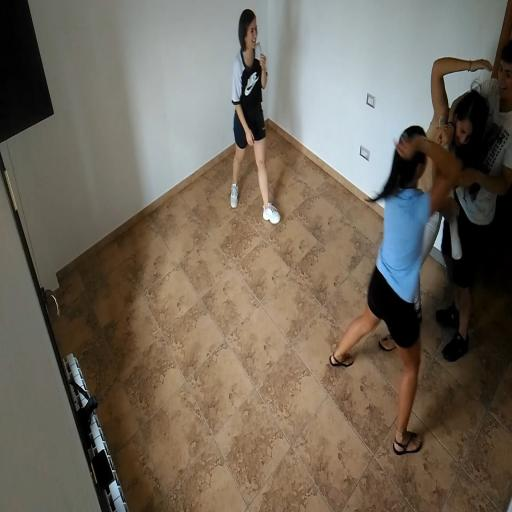violencia: (327, 19, 512, 458)
